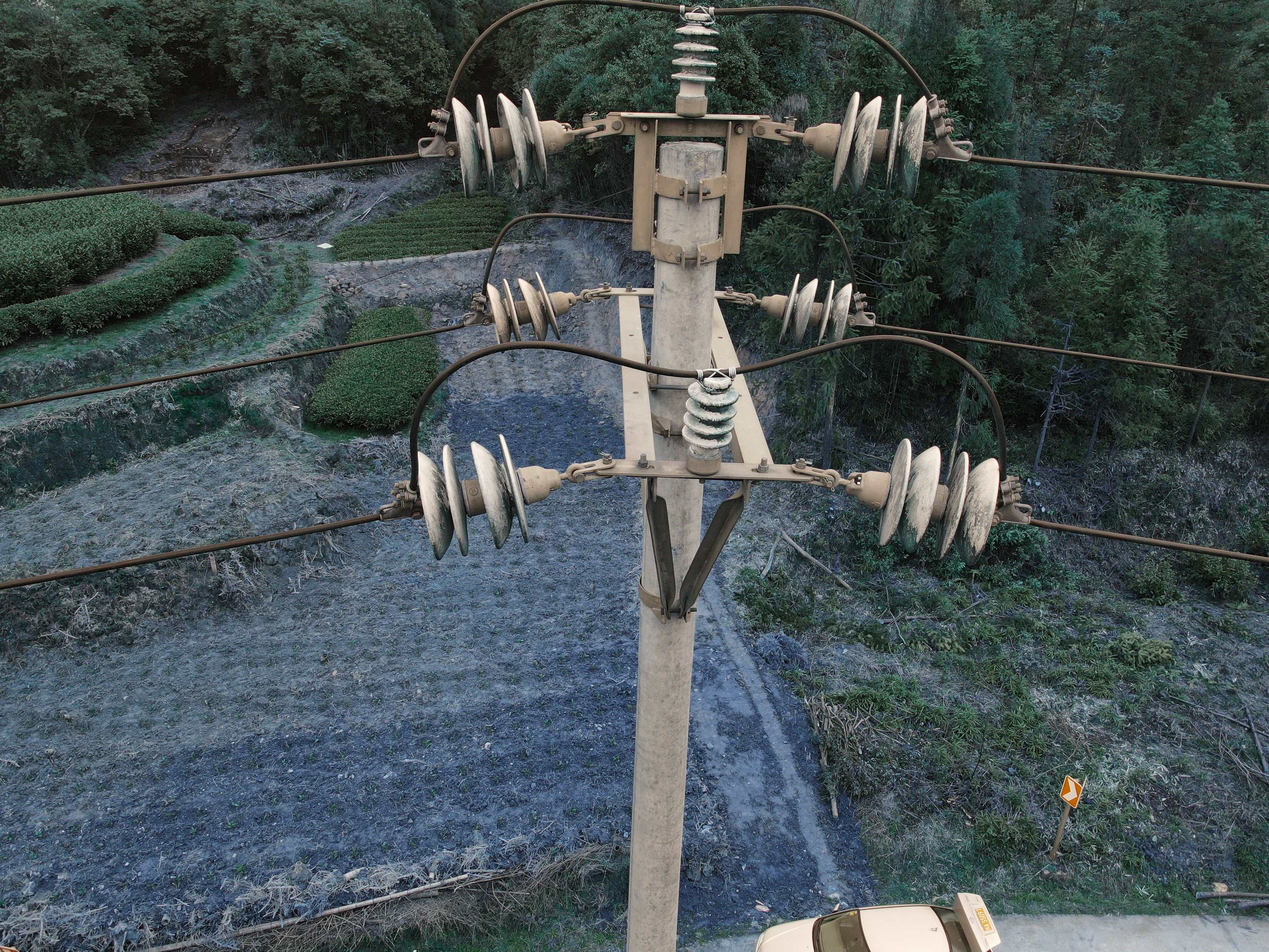severe_soiling_no_discharge_whole: (850, 433, 1006, 568), (411, 431, 565, 564), (805, 82, 933, 201), (446, 87, 575, 198), (758, 271, 853, 347), (484, 273, 577, 340), (666, 8, 722, 118), (680, 370, 740, 472)
